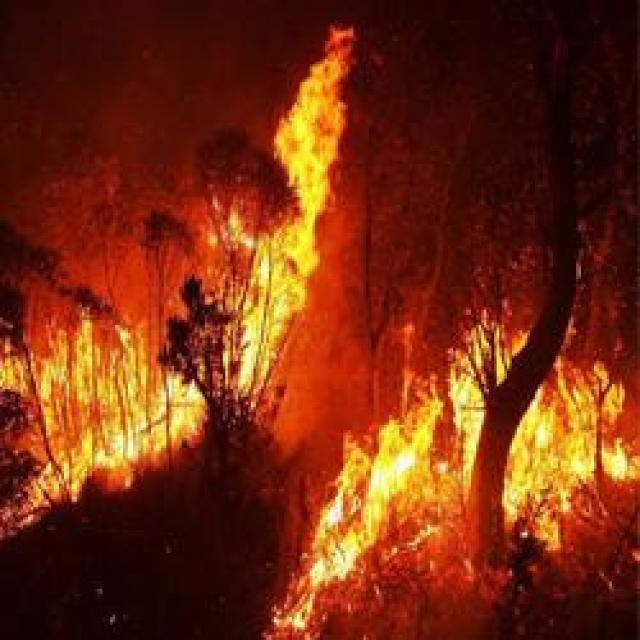fire: (300, 420, 450, 590), (42, 332, 212, 478), (499, 369, 634, 536), (221, 208, 307, 397), (289, 97, 336, 166)
